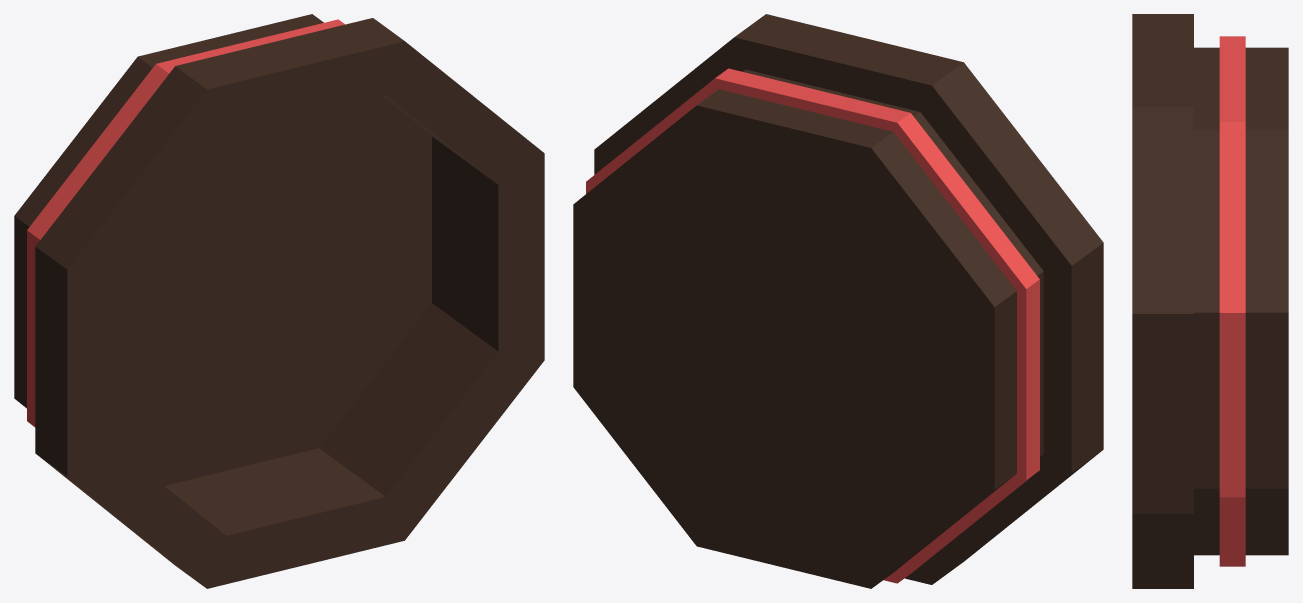
The model's file is PipeCap.fbx.
The picture shows the model from 3 angles, left to right: view 1: azimuth 30°, elevation 25°; view 2: azimuth 150°, elevation 25°; view 3: azimuth 270°, elevation 25°; orthographic projection. The views are drawn at different scales.
Parts seen in each view (by area): view 1: Cylinder.021; view 2: Cylinder.021; view 3: Cylinder.021.
Part boxes in pixels (<box>): Cylinder.021: <box>14,14,544,588</box>; Cylinder.021: <box>573,14,1103,588</box>; Cylinder.021: <box>1132,14,1288,588</box>.
Size of the model in its own units: 36.71 by 36.71 by 10.79.
